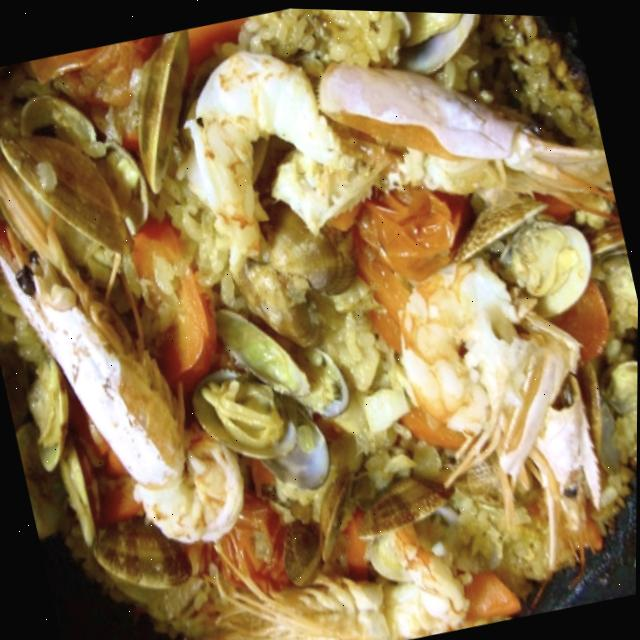熟制海鲜: (43, 169, 582, 511)
